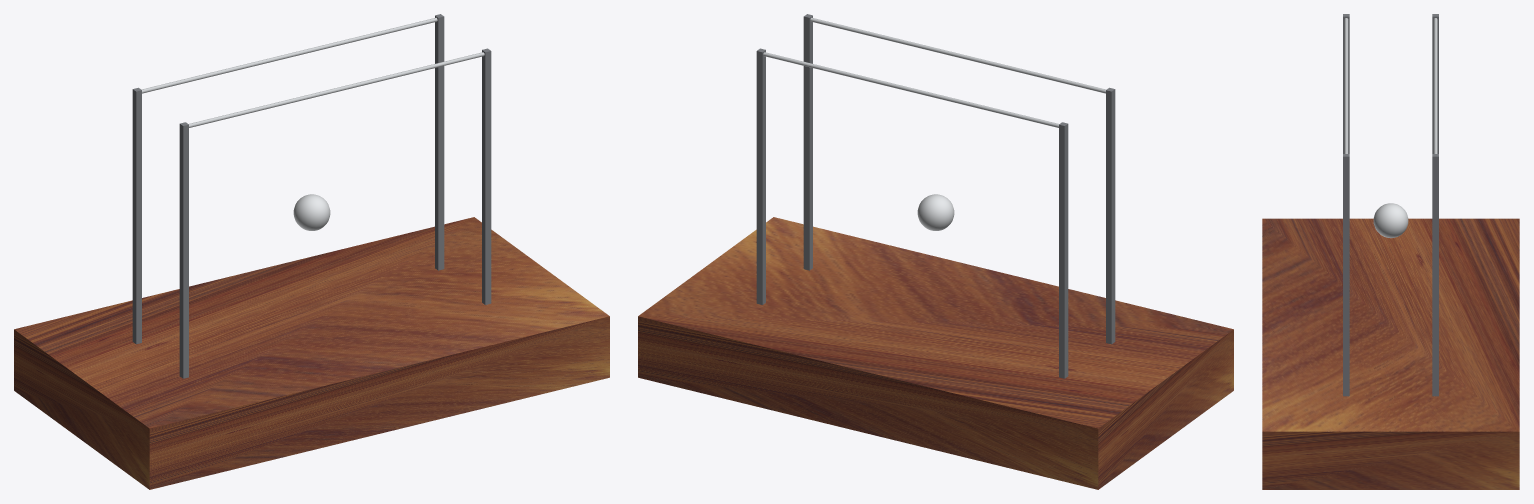
File: newton_cradle.glb
The picture shows the model from 3 angles, left to right: view 1: azimuth 30°, elevation 25°; view 2: azimuth 150°, elevation 25°; view 3: azimuth 270°, elevation 25°; orthographic projection. The views are drawn at different scales.
Visible parts, largest first — view 1: NC_Base, NC_Frame, NC_Rods, NC_Ball_0; view 2: NC_Base, NC_Frame, NC_Rods, NC_Ball_0; view 3: NC_Base, NC_Frame, NC_Rods, NC_Ball_0.
Boxes of the visible parts, <box> form: NC_Base: <box>14,217,609,489</box>; NC_Frame: <box>132,14,491,378</box>; NC_Rods: <box>141,17,484,127</box>; NC_Ball_0: <box>293,194,330,230</box>; NC_Base: <box>638,217,1233,489</box>; NC_Frame: <box>756,14,1115,378</box>; NC_Rods: <box>763,17,1106,127</box>; NC_Ball_0: <box>917,194,954,230</box>; NC_Base: <box>1262,218,1519,489</box>; NC_Frame: <box>1343,14,1438,396</box>; NC_Rods: <box>1344,18,1437,153</box>; NC_Ball_0: <box>1373,203,1408,238</box>.
Size of what is drawn, in the model's own units: 28.8 by 18.78 by 14.7.
4 materials, 1 textured.
